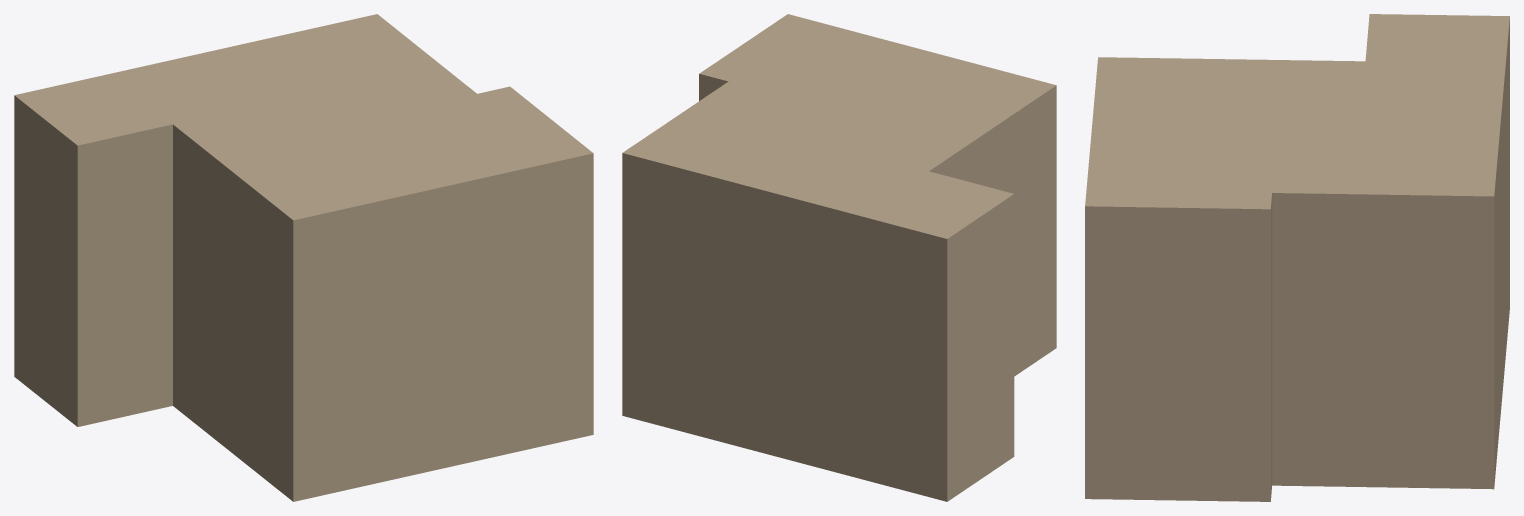
Rendered from bld_106796860.dae.
The picture shows the model from 3 angles, left to right: view 1: azimuth 30°, elevation 25°; view 2: azimuth 150°, elevation 25°; view 3: azimuth 270°, elevation 25°; orthographic projection. The views are drawn at different scales.
Parts seen in each view (by area): view 1: bld_106796860; view 2: bld_106796860; view 3: bld_106796860.
Boxes of the visible parts, bbox=[...] form: bld_106796860: bbox=[14, 14, 593, 501]; bld_106796860: bbox=[622, 14, 1056, 501]; bld_106796860: bbox=[1085, 14, 1509, 501].
Size of the model in its own units: 11.45 by 10.52 by 8.
